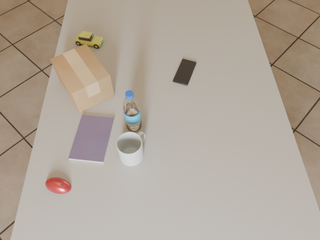book: (68, 115, 114, 163)
bottle: (123, 90, 141, 131)
box: (50, 44, 114, 113)
cup: (117, 132, 145, 166)
mouse: (45, 178, 71, 194)
phone: (173, 59, 196, 85)
toy_car: (75, 31, 103, 48)
